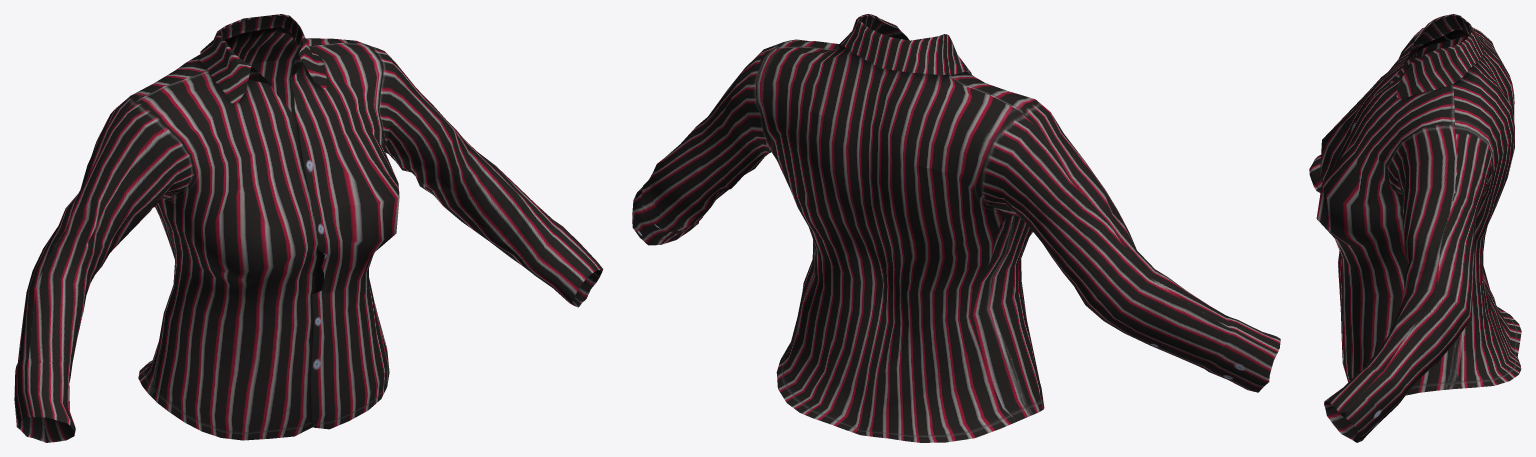
File: LL_XLF.dae
The picture shows the model from 3 angles, left to right: view 1: azimuth 30°, elevation 25°; view 2: azimuth 150°, elevation 25°; view 3: azimuth 270°, elevation 25°; orthographic projection. The views are drawn at different scales.
Visible parts, largest first — view 1: LL; view 2: LL; view 3: LL.
Boxes of the visible parts, <box> form: LL: <box>14,14,603,442</box>; LL: <box>632,14,1280,442</box>; LL: <box>1309,14,1521,442</box>.
Size of the model in its own units: 9.11 by 5.51 by 3.07.
